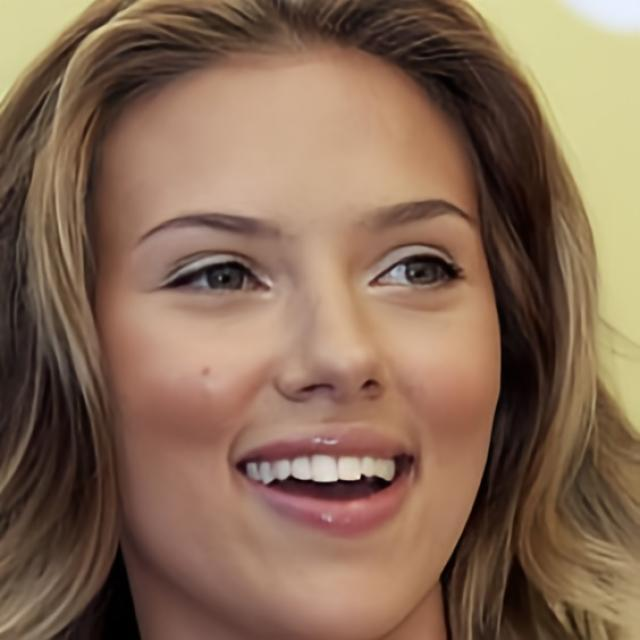happy: (100, 47, 506, 618)
